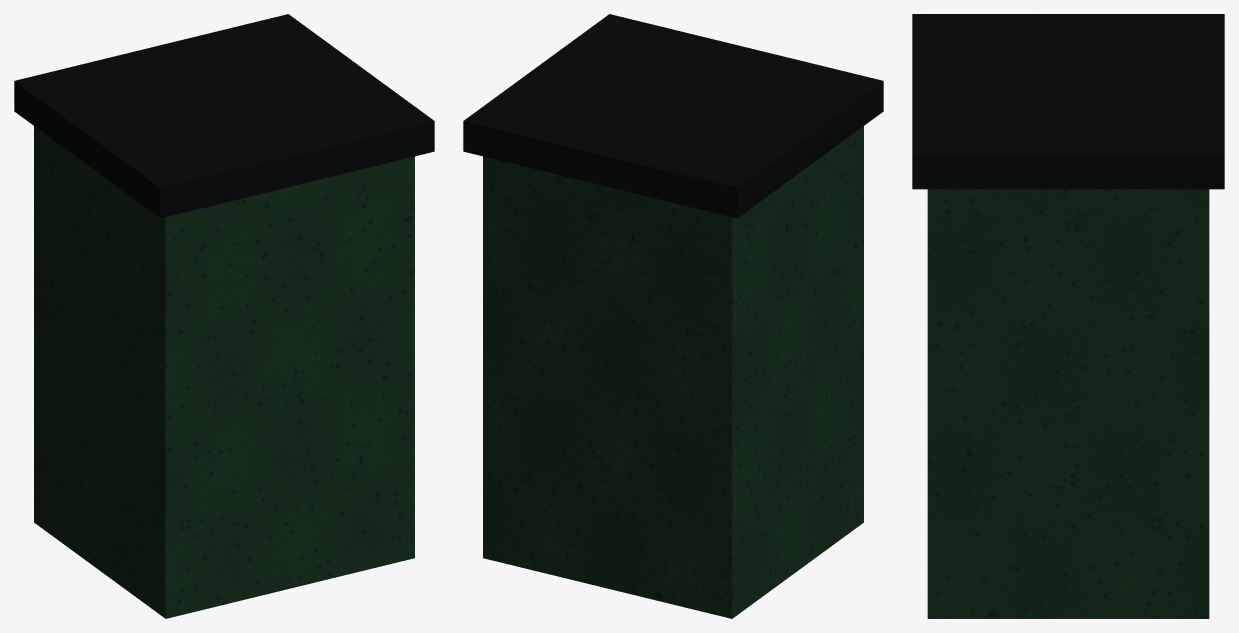
The model's file is PROP-BD48A707CE80_lod2.glb.
3 views of the same model, side by side, from view 1: azimuth 30°, elevation 25°; view 2: azimuth 150°, elevation 25°; view 3: azimuth 270°, elevation 25° (orthographic). The views are drawn at different scales.
Visible parts, largest first — view 1: waste_container.001, bin_lid.001; view 2: waste_container.001, bin_lid.001; view 3: waste_container.001, bin_lid.001.
Boxes of the visible parts, x1,y1,x2,y2 form: waste_container.001: (34,126,414,618); bin_lid.001: (14,14,434,218); waste_container.001: (483,126,863,618); bin_lid.001: (463,14,883,218); waste_container.001: (927,189,1209,618); bin_lid.001: (912,14,1224,189).
Size of the model in its own units: 0.66 by 1.01 by 0.61.
2 materials, 2 textured.
